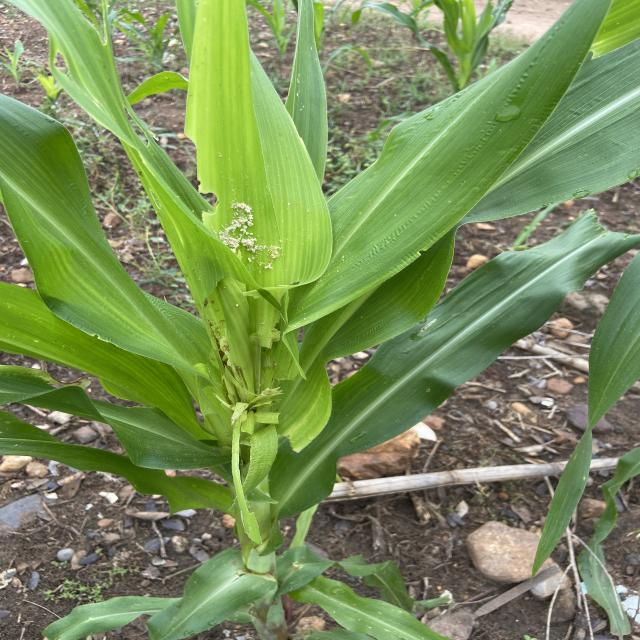fall-armyworm-egg: (202, 188, 308, 280)
fall-armyworm-larval-damage: (188, 368, 336, 529), (170, 234, 251, 366)
